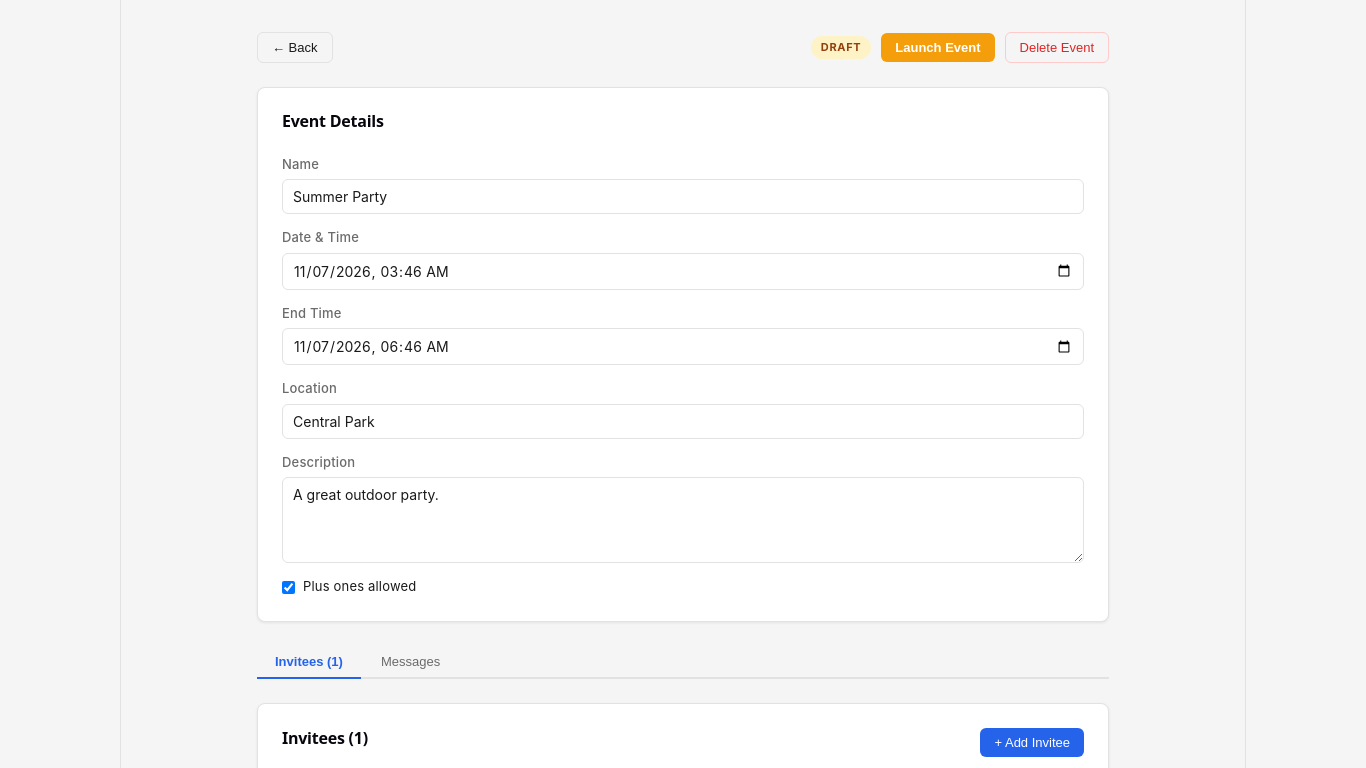
Scenario: EventDetails › overriding a sent text to pending saves the new status and refreshes
Expected: the field showing "Summer Party" is shown, x1=282 y1=179 x2=1084 y2=214
Click the button "Messages": (411, 662) x1=363 y1=646 x2=458 y2=679
(page scrolled)
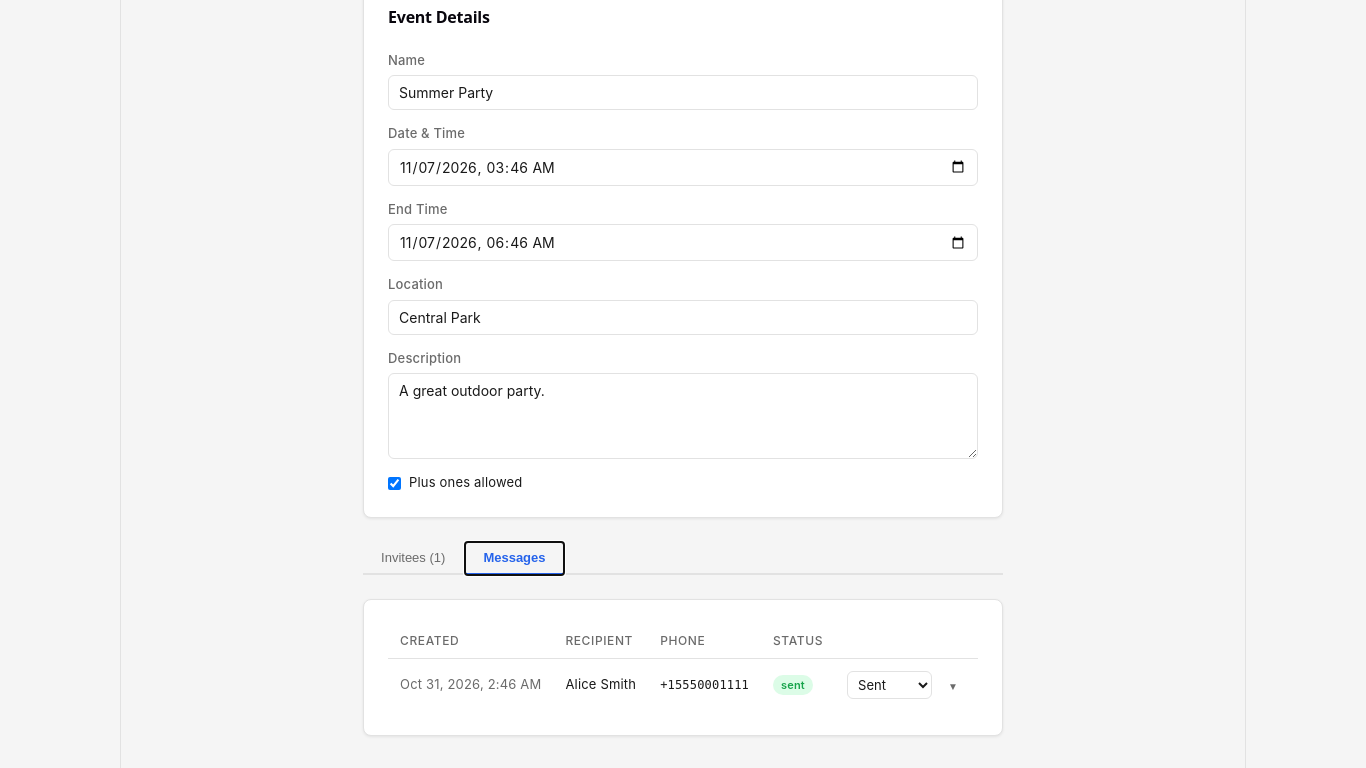
Expected: the text "Alice Smith" is shown, x1=553 y1=658 x2=648 y2=711
Select "Pending" in the dropdown named "status for alice smith": (890, 685) x1=847 y1=671 x2=932 y2=699
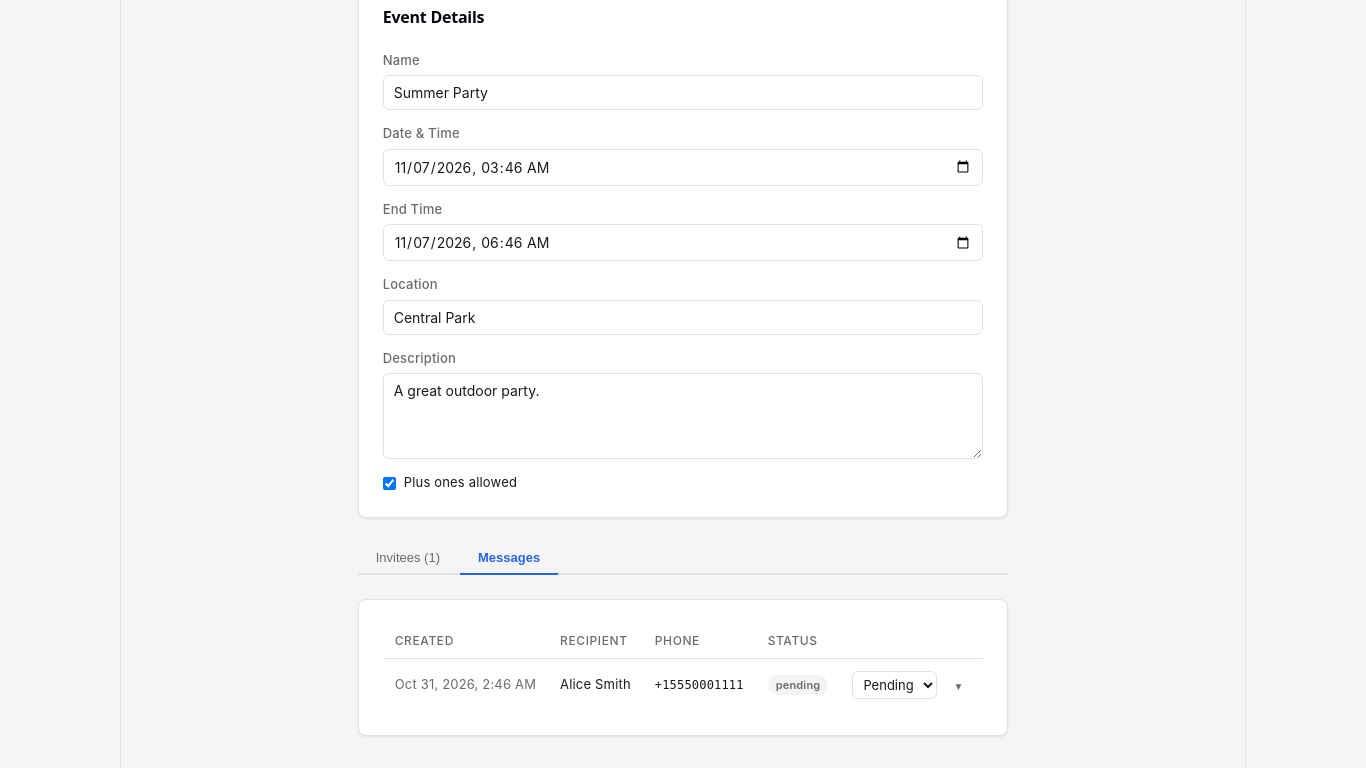
Expected: the text "pending" is shown, x1=768 y1=675 x2=828 y2=695
